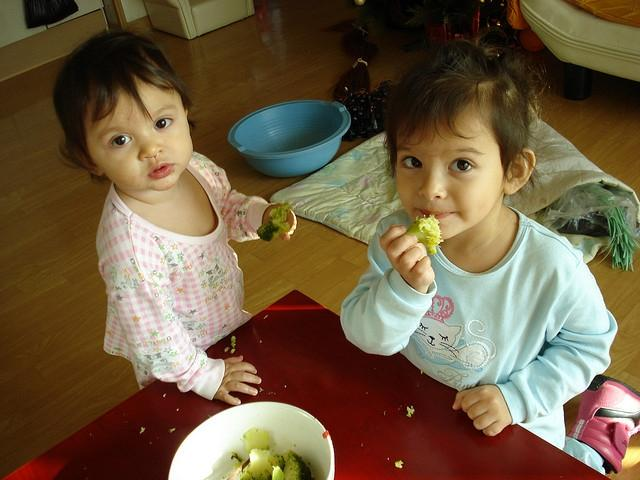broccoli: (403, 214, 444, 254), (239, 449, 286, 480), (257, 201, 291, 242), (282, 450, 314, 480), (243, 428, 270, 454), (272, 465, 286, 480)
